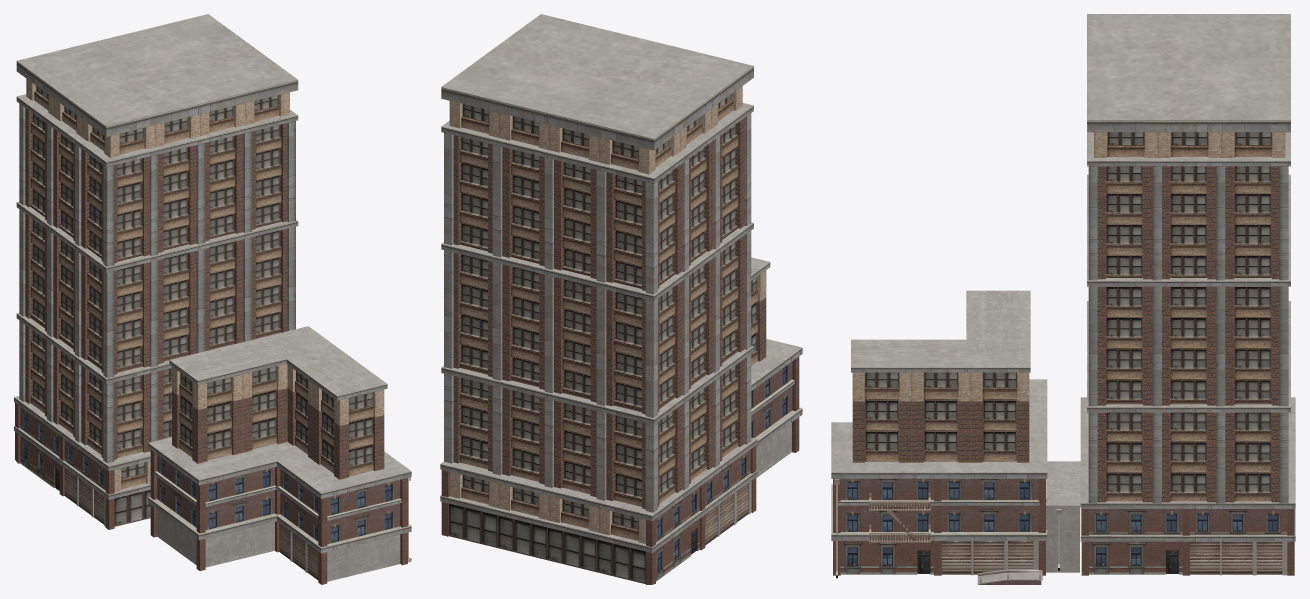
The model's file is game_ready_city_buildings.glb.
The picture shows the model from 3 angles, left to right: view 1: azimuth 30°, elevation 25°; view 2: azimuth 150°, elevation 25°; view 3: azimuth 270°, elevation 25°; orthographic projection. The views are drawn at different scales.
Parts seen in each view (by area): view 1: Atlas.016_13, Atlas.002_26, Cube.007_4, Cube.002_8, Atlas.014_15, Atlas.006_23, Cube.005_5, Cube.004_6, Atlas.017_12, Cube_10, Cube.003_7, Atlas.011_18 (+2 smaller); view 2: Atlas.016_13, Cube.007_4, Cube.002_8, Atlas.002_26, Atlas.011_18, Atlas.014_15, Atlas.015_14, Cube_10, Cube.005_5, Cube.004_6, Cube.003_7, Cube.001_9 (+6 smaller); view 3: Atlas.002_26, Atlas.016_13, Cube.007_4, Cube.002_8, Atlas.005_24, Atlas.018_11, Cube_10, Cube.005_5, Cube.004_6, Cube.003_7, Cube.001_9, Atlas.001_27 (+2 smaller).
Part boxes in pixels (x1=…): Atlas.016_13: x1=25, y1=108, x2=287, y2=459; Atlas.002_26: x1=148, y1=326, x2=411, y2=584; Cube.007_4: x1=16, y1=14, x2=298, y2=136; Cube.002_8: x1=19, y1=103, x2=295, y2=463; Atlas.014_15: x1=15, y1=403, x2=114, y2=529; Atlas.006_23: x1=110, y1=92, x2=289, y2=157; Cube.005_5: x1=16, y1=94, x2=298, y2=166; Cube.004_6: x1=16, y1=201, x2=298, y2=272; Atlas.017_12: x1=26, y1=78, x2=110, y2=157; Cube_10: x1=14, y1=396, x2=150, y2=471; Cube.003_7: x1=16, y1=313, x2=171, y2=383; Atlas.011_18: x1=114, y1=490, x2=150, y2=526; Atlas.016_13: x1=453, y1=118, x2=744, y2=508; Cube.007_4: x1=441, y1=14, x2=753, y2=150; Cube.002_8: x1=444, y1=113, x2=751, y2=512; Atlas.002_26: x1=751, y1=257, x2=802, y2=477; Atlas.011_18: x1=448, y1=503, x2=645, y2=584; Atlas.014_15: x1=646, y1=445, x2=756, y2=584; Atlas.015_14: x1=449, y1=101, x2=648, y2=174; Cube_10: x1=440, y1=437, x2=757, y2=521; Cube.005_5: x1=441, y1=103, x2=753, y2=183; Cube.004_6: x1=441, y1=222, x2=753, y2=301; Cube.003_7: x1=441, y1=346, x2=753, y2=424; Cube.001_9: x1=440, y1=470, x2=757, y2=552; Atlas.002_26: x1=831, y1=290, x2=1080, y2=578; Atlas.016_13: x1=1097, y1=166, x2=1279, y2=502; Cube.007_4: x1=1087, y1=14, x2=1290, y2=132; Cube.002_8: x1=1088, y1=166, x2=1288, y2=503; Atlas.005_24: x1=1081, y1=509, x2=1294, y2=575; Atlas.018_11: x1=1094, y1=132, x2=1285, y2=157; Cube_10: x1=1080, y1=397, x2=1295, y2=508; Cube.005_5: x1=1087, y1=132, x2=1290, y2=166; Cube.004_6: x1=1087, y1=174, x2=1290, y2=286; Cube.003_7: x1=1087, y1=301, x2=1290, y2=412; Cube.001_9: x1=1080, y1=509, x2=1295, y2=541; Atlas.001_27: x1=977, y1=569, x2=1042, y2=584.
Size of the model in its own units: 1.73 by 3.22 by 2.96.
Materials: 1 (1 with a texture image).
